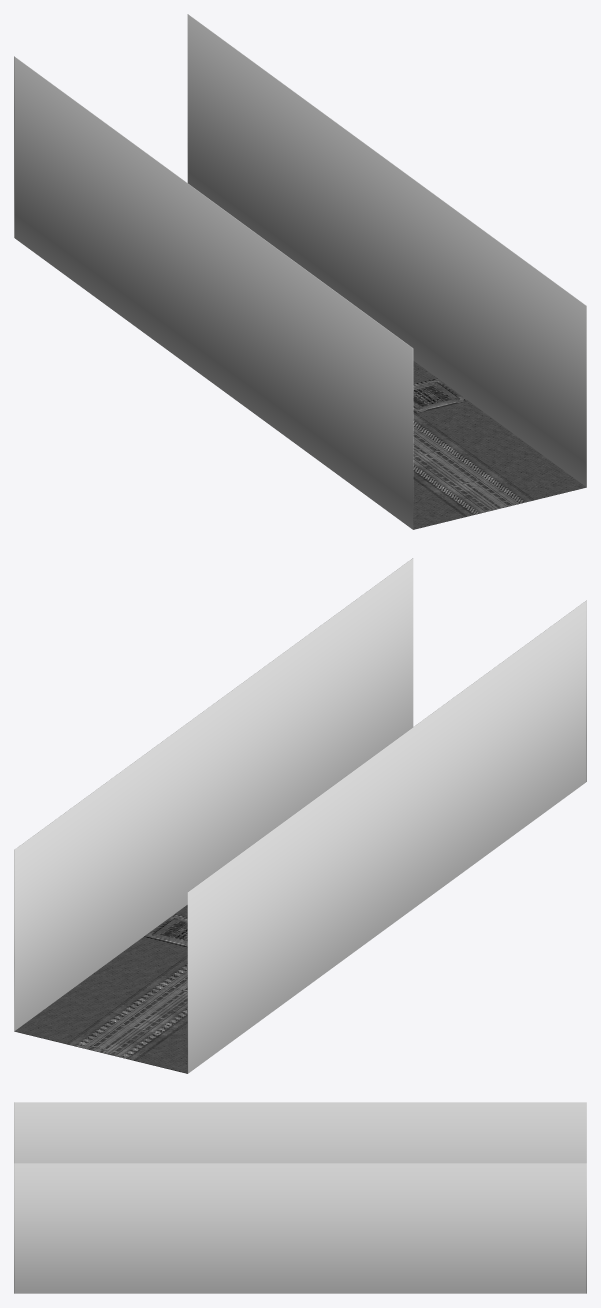
Rendered from corridor_c-5.fbx.
3 renders of one model, top to bottom at view 1: azimuth 30°, elevation 25°; view 2: azimuth 150°, elevation 25°; view 3: azimuth 270°, elevation 25°, orthographic. The views are drawn at different scales.
Parts seen in each view (by area): view 1: corridor C-5; view 2: corridor C-5; view 3: corridor C-5.
Boxes of the visible parts, x1,y1,x2,y2 form: corridor C-5: (14, 14, 586, 529); corridor C-5: (14, 558, 586, 1073); corridor C-5: (14, 1102, 586, 1293).
Bounding box in the file's own units: 363 × 362 × 1443.
